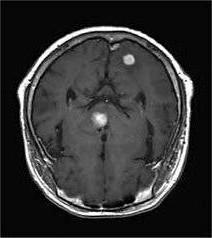Normal_Brain: (1, 1, 212, 238)
